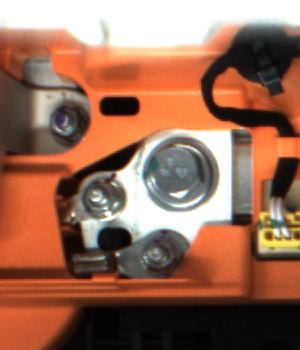nut_b: (137, 134, 231, 216)
